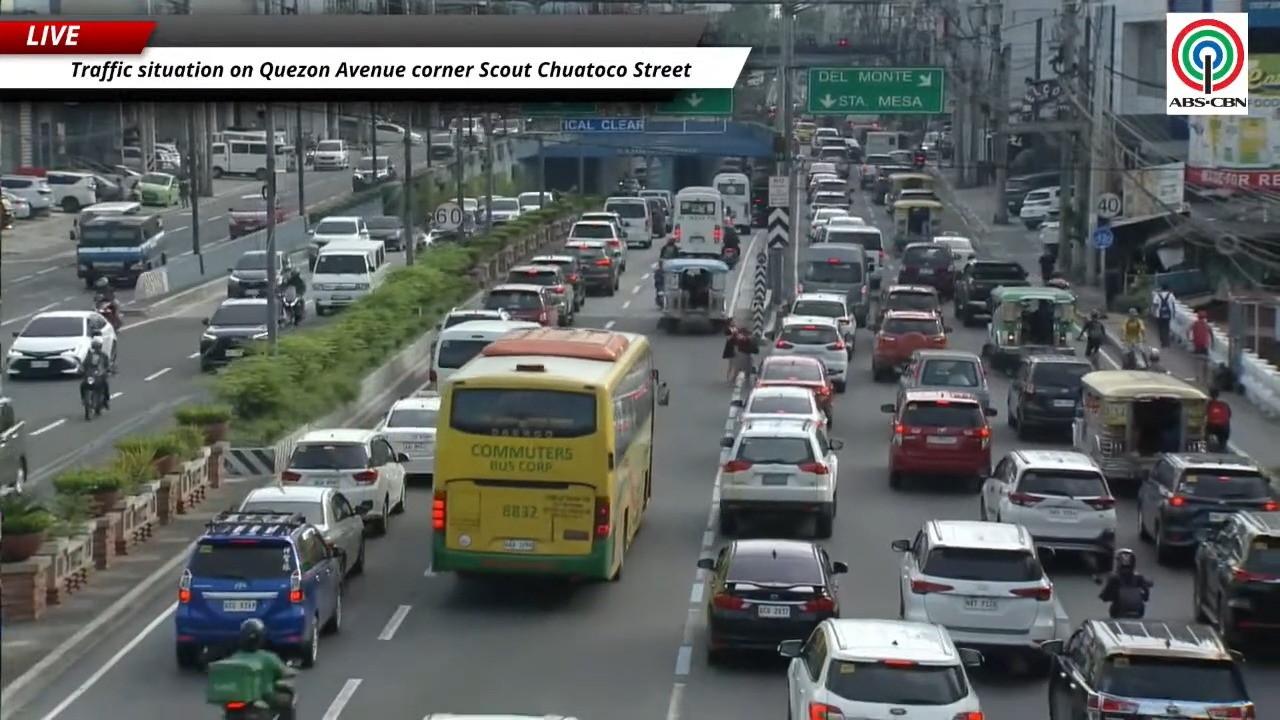bus: (431, 328, 667, 579), (209, 139, 266, 179)
car: (891, 519, 1069, 675), (174, 511, 343, 669), (1041, 619, 1263, 719), (779, 618, 982, 719), (697, 539, 848, 664), (980, 449, 1116, 571), (1136, 454, 1279, 563), (719, 419, 842, 538), (280, 428, 408, 534), (1193, 510, 1279, 648), (237, 485, 367, 576), (881, 389, 995, 491), (6, 310, 116, 378), (1007, 354, 1093, 439), (770, 315, 850, 392), (755, 355, 834, 426), (375, 391, 440, 476), (872, 311, 949, 381), (899, 349, 991, 407), (199, 297, 269, 371), (953, 260, 1029, 326), (506, 263, 578, 325), (790, 293, 856, 356), (731, 386, 825, 426), (482, 283, 559, 326), (897, 242, 954, 298), (562, 240, 619, 296), (529, 253, 585, 309), (568, 219, 627, 272), (308, 217, 369, 266), (0, 395, 28, 496), (228, 194, 290, 238), (877, 284, 940, 325), (44, 170, 99, 212), (869, 157, 914, 205), (0, 175, 52, 215), (226, 250, 270, 297), (367, 215, 426, 250), (1018, 186, 1060, 230), (933, 232, 976, 272), (437, 307, 513, 329), (352, 155, 397, 191), (132, 172, 179, 206), (809, 208, 848, 241), (578, 210, 624, 237), (859, 154, 892, 190), (375, 121, 424, 144), (312, 139, 349, 169), (484, 197, 521, 225), (0, 190, 32, 219), (811, 191, 849, 215), (807, 172, 838, 199), (826, 214, 865, 230), (814, 178, 849, 194)
motorcycle: (1109, 578, 1152, 619), (80, 375, 104, 420), (222, 701, 280, 719), (222, 702, 280, 719), (95, 299, 121, 330), (281, 293, 304, 326), (722, 246, 738, 267), (655, 289, 664, 309)
